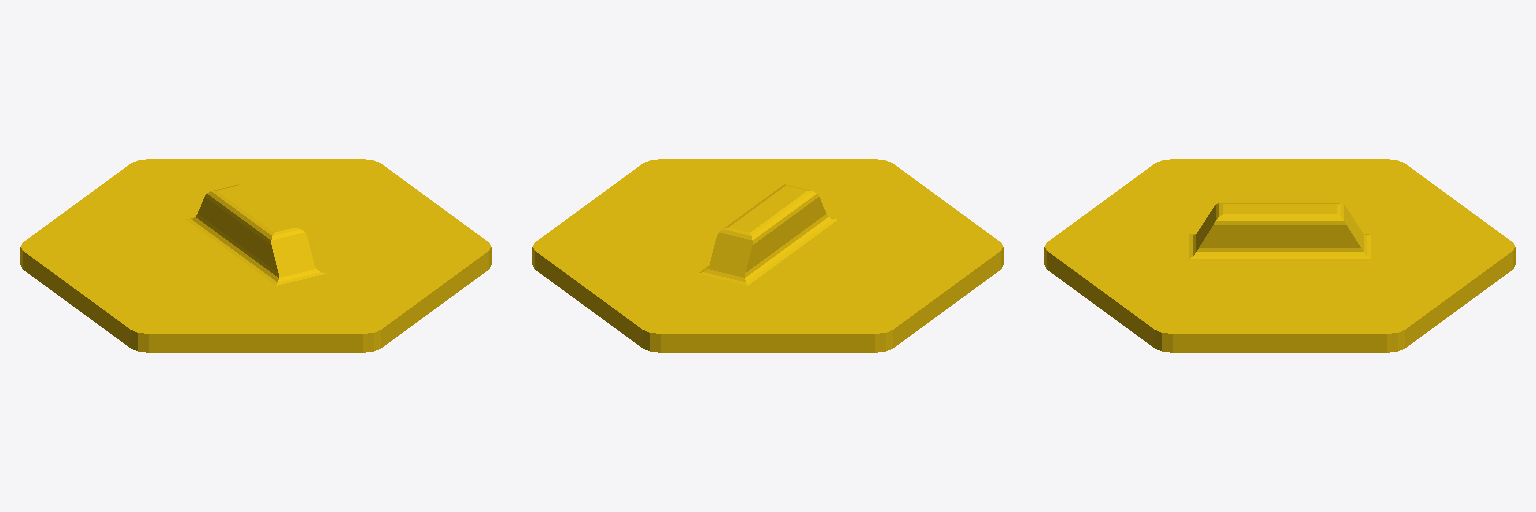
robot.urdf — 1_6_major:
<?xml version="1.0" encoding="utf-8"?>
<!-- This URDF was automatically created by SolidWorks to URDF Exporter! Originally created by [author] ([email redacted]) 
     Commit Version: 1.6.0-1-g15f4949  Build Version: 1.6.7594.29634
     For more information, please see http://wiki.ros.org/sw_urdf_exporter -->
<robot
  name="1_6_major">
  <gazebo reference="base_link">
     <material>Gazebo/Orange</material>
     <turnGravityOff>false</turnGravityOff>
  </gazebo>
  <gazebo reference="link1">
     <material>Gazebo/Orange</material>
     <turnGravityOff>false</turnGravityOff>
  </gazebo>
  <link
    name="base_link">
    <inertial>
      <origin
        xyz="-0.00270899714756055 -0.00795898236474125 0.227846096908265"
        rpy="0 0 0" />
      <mass
        value="0.37486750758775" />
      <inertia
        ixx="0.000970268597556199"
        ixy="-3.14798702432892E-13"
        ixz="-1.09753262259671E-12"
        iyy="0.00193404141025545"
        iyz="1.43381582241121E-20"
        izz="0.000982044655943562" />
    </inertial>
    <visual>
      <origin
        xyz="0 0 0"
        rpy="0 0 0" />
      <geometry>
        <mesh
          filename="package://1_6_major/meshes/base_link.STL" />
      </geometry>
      <material
        name="Orange">
        <color
          rgba="0.945 0.792 0.09 1.0" />
      </material>
    </visual>
    <collision>
      <origin
        xyz="0 0 0"
        rpy="0 0 0" />
      <geometry>
        <mesh
          filename="package://1_6_major/meshes/base_link.STL" />
      </geometry>
    </collision>
  </link>
  
  <link
    name="link1">
    <inertial>
      <origin
        xyz="-1.61860394878865E-10 0.00608490105206888 -5.55111512312578E-17"
        rpy="0 0 0" />
      <mass
        value="15.4867507587751" />
      <inertia
        ixx="0.000970268597556199"
        ixy="-3.14798702965608E-13"
        ixz="-1.09753262288876E-12"
        iyy="0.00193404141025545"
        iyz="1.41646588557961E-20"
        izz="0.000982044655943562" />
    </inertial>
    <visual>
      <origin
        xyz="0 0 0"
        rpy="0 0 0" />
      <geometry>
        <mesh
          filename="package://1_6_major/meshes/link1.STL" />
      </geometry>
      <material
        name="Orange">
        <color
          rgba="0.945 0.792 0.09 1.0" />
      </material>
    </visual>
    <collision>
      <origin
        xyz="0 0 0"
        rpy="0 0 0" />
      <geometry>
        <mesh
          filename="package://1_6_major/meshes/link1.STL" />
      </geometry>
    </collision>
  </link>
  <joint
    name="joint1"
    type="fixed">
    <origin
      xyz="-0.00270899698570015 -0.227846096908265 -0.0140438834168101"
      rpy="1.5707963267949 0 0" />
    <parent
      link="base_link" />
    <child
      link="link1" />
    <axis
      xyz="0 0 0" />
  </joint>
</robot>

--- Render facts (derived) ---
The picture shows the robot from 3 angles, left to right: view 1: azimuth 30°, elevation 25°; view 2: azimuth 150°, elevation 25°; view 3: azimuth 270°, elevation 25°; orthographic projection.
Model 1_6_major with 2 links and 1 joints (1 fixed), rooted at base_link, posed every joint at zero.
Links seen in each view (by area): view 1: base_link; view 2: base_link; view 3: base_link.
Link boxes in pixels (x1=…): base_link: x1=20, y1=159, x2=491, y2=352; base_link: x1=532, y1=159, x2=1003, y2=352; base_link: x1=1044, y1=159, x2=1515, y2=352.
Bounding box of the posed robot: 0.2 × 0.2278 × 0.03 m (x, y, z).
Meshes: 2 distinct files referenced, 1 mesh visuals loaded (1 binary STL); not drawn: 1 (reference not matched to a file when rendering).